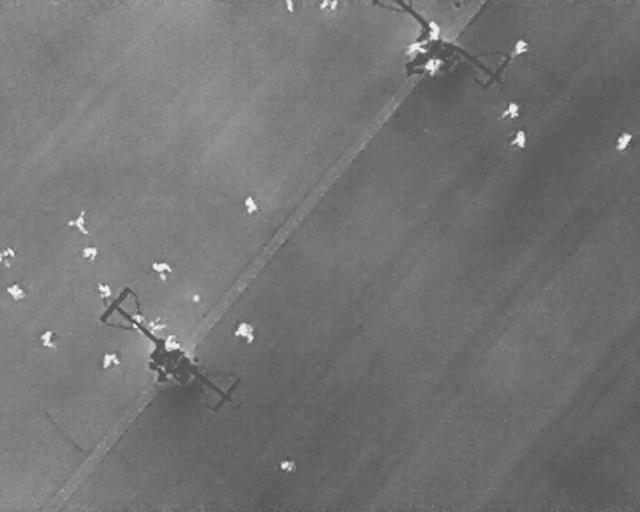Person: (421, 53, 444, 77), (613, 129, 634, 152), (151, 260, 172, 282), (67, 211, 86, 235), (235, 322, 256, 343), (240, 193, 260, 214), (406, 38, 429, 54), (1, 246, 15, 269), (6, 284, 24, 300), (278, 458, 295, 474), (503, 102, 519, 119), (428, 20, 441, 40), (515, 38, 528, 58), (512, 129, 526, 147), (98, 279, 111, 298), (103, 353, 118, 368), (149, 318, 164, 332), (165, 336, 179, 351), (82, 247, 97, 260), (41, 331, 54, 346), (320, 0, 336, 12), (130, 313, 142, 328), (284, 0, 294, 14)
